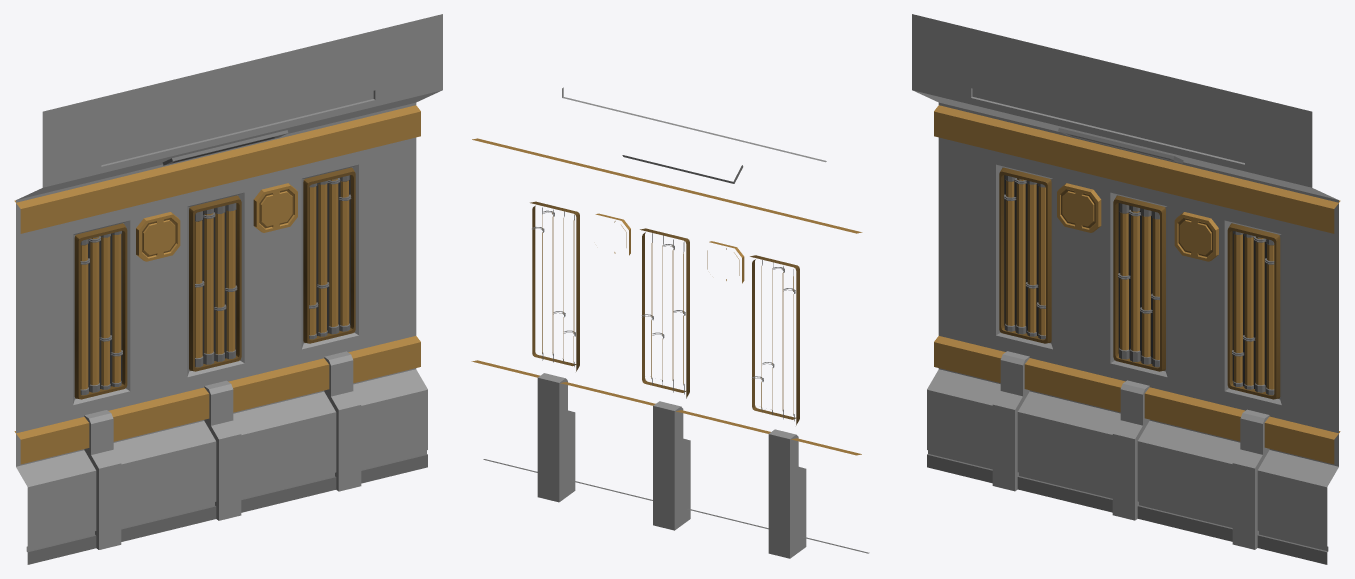
File: Wall_2.glb
3 renders of one model, left to right at view 1: azimuth 30°, elevation 25°; view 2: azimuth 150°, elevation 25°; view 3: azimuth 330°, elevation 25°, orthographic. The views are drawn at different scales.
Parts seen in each view (by area): view 1: Main, Accent, DarkAccent, DarkGrey, Black; view 2: Main, Accent, DarkAccent, DarkGrey; view 3: Main, Accent, DarkAccent, DarkGrey, Black.
Part boxes in pixels (x1=…): Main: x1=16, y1=14, x2=442, y2=551; Accent: x1=14, y1=105, x2=420, y2=464; DarkAccent: x1=74, y1=167, x2=355, y2=399; DarkGrey: x1=27, y1=130, x2=427, y2=564; Black: x1=88, y1=175, x2=350, y2=391; Main: x1=537, y1=87, x2=826, y2=558; Accent: x1=471, y1=138, x2=862, y2=455; DarkAccent: x1=530, y1=201, x2=799, y2=425; DarkGrey: x1=483, y1=155, x2=869, y2=553; Main: x1=912, y1=14, x2=1338, y2=551; Accent: x1=934, y1=105, x2=1340, y2=464; DarkAccent: x1=999, y1=167, x2=1280, y2=399; DarkGrey: x1=927, y1=128, x2=1327, y2=564; Black: x1=1004, y1=175, x2=1266, y2=391.
Size of the model in its own units: 4 by 4.43 by 0.5334.
